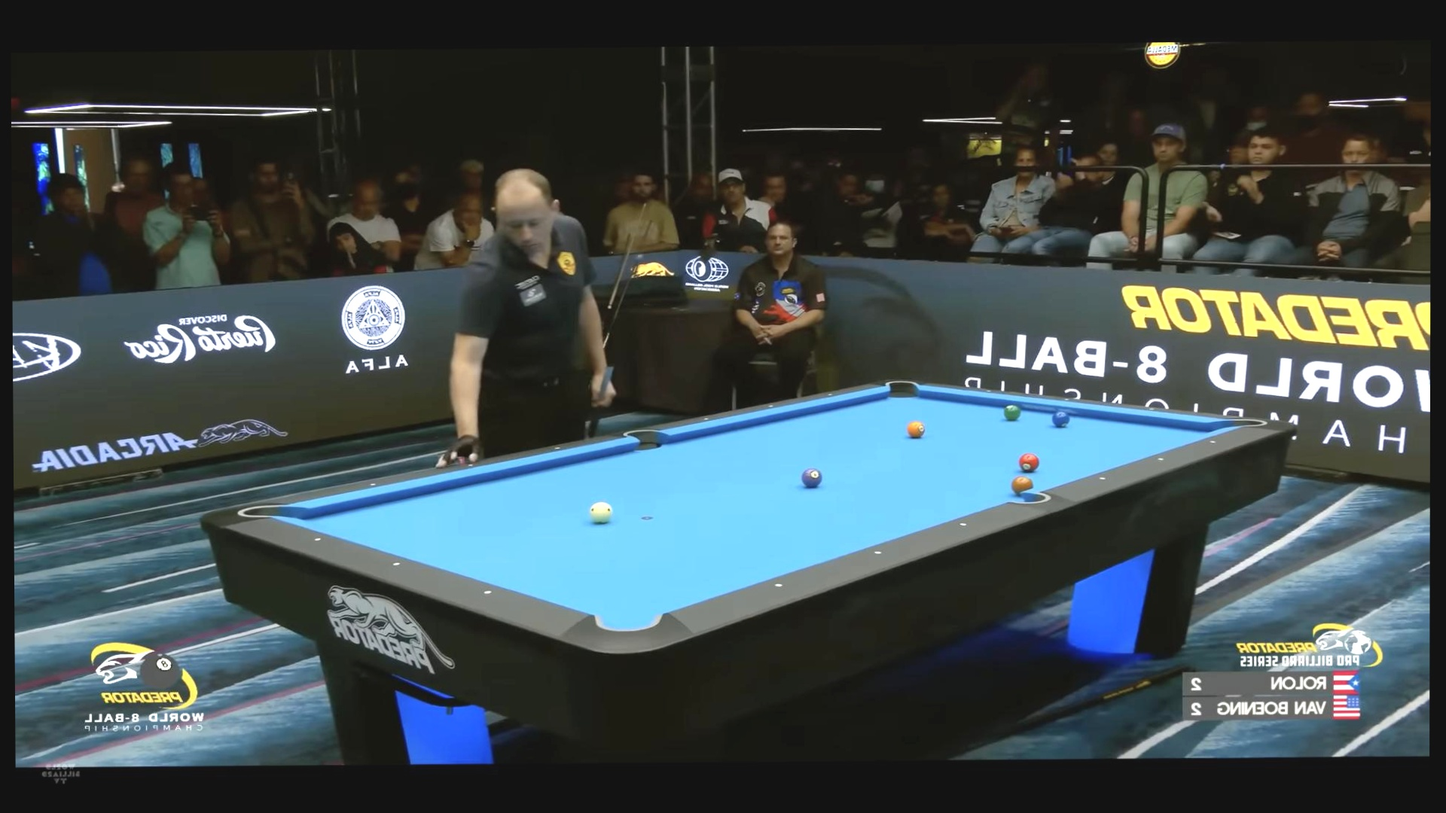Black: (772, 580, 785, 591), (872, 547, 885, 558), (957, 519, 970, 530), (1096, 474, 1107, 483), (1156, 455, 1167, 464), (483, 588, 493, 597), (392, 560, 402, 569), (368, 479, 378, 488), (465, 460, 475, 469), (552, 444, 562, 453), (1208, 437, 1218, 446), (313, 535, 322, 544), (1062, 395, 1070, 403), (985, 387, 993, 395), (1147, 406, 1156, 413), (703, 416, 709, 422), (768, 403, 774, 408), (828, 392, 834, 397)
Cue: (1011, 475, 1033, 495), (801, 468, 823, 487), (1018, 452, 1039, 471), (907, 421, 925, 438), (1052, 411, 1070, 428), (1004, 405, 1021, 421)
Stripe: (589, 501, 613, 524)
